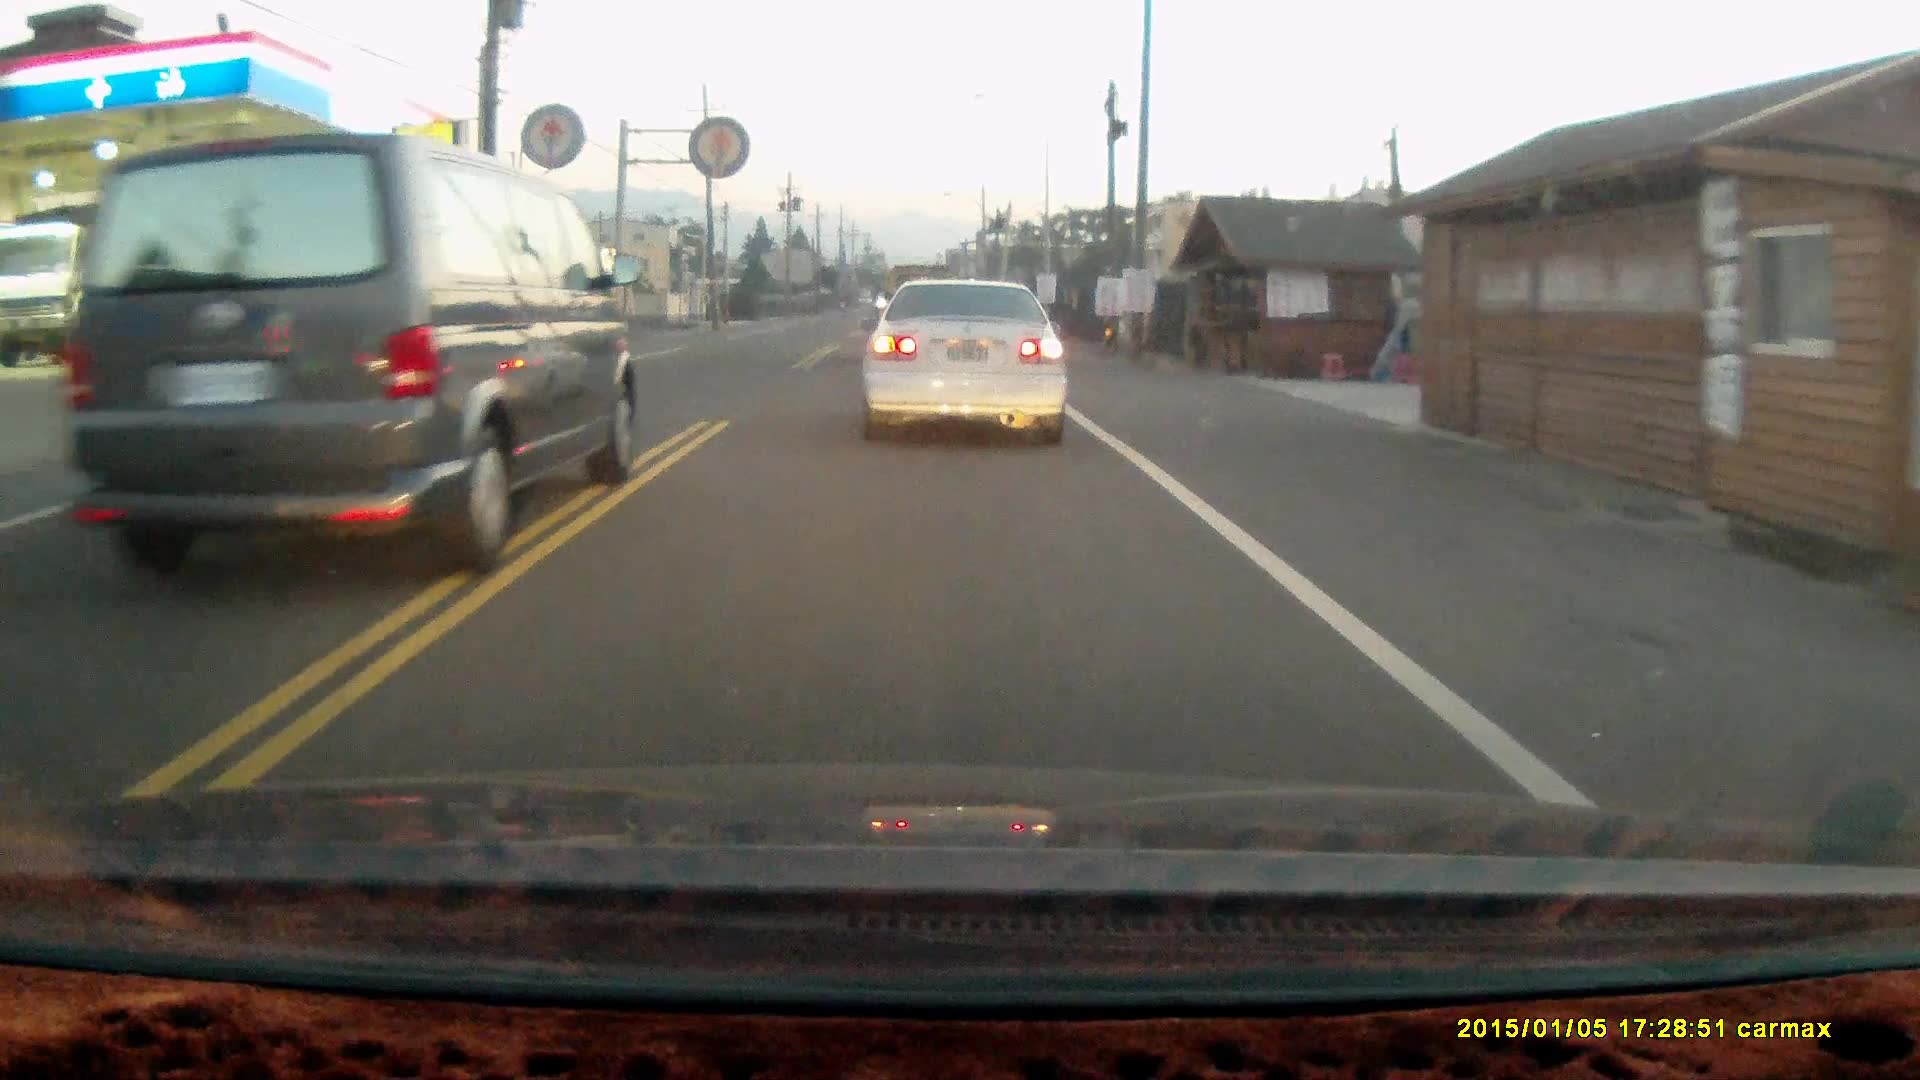vehicle: (53, 138, 628, 588), (862, 280, 1069, 455), (5, 198, 145, 365)
